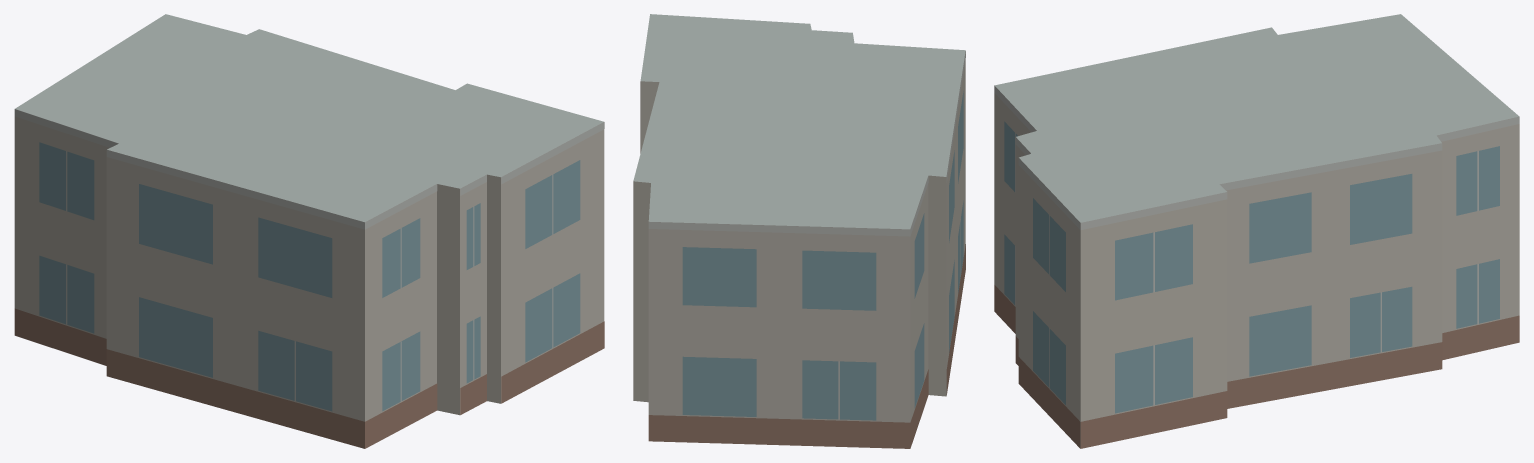
The model's file is survey-upis-32956365.glb.
The picture shows the model from 3 angles, left to right: view 1: azimuth 30°, elevation 25°; view 2: azimuth 150°, elevation 25°; view 3: azimuth 270°, elevation 25°; orthographic projection. The views are drawn at different scales.
Visible parts, largest first — view 1: survey-upis-32956365.tmp; view 2: survey-upis-32956365.tmp; view 3: survey-upis-32956365.tmp.
Boxes of the visible parts, x1=… form: survey-upis-32956365.tmp: x1=14, y1=14, x2=604, y2=448; survey-upis-32956365.tmp: x1=633, y1=14, x2=965, y2=448; survey-upis-32956365.tmp: x1=994, y1=14, x2=1519, y2=448.
Size of the model in its own units: 14.88 by 7.5 by 15.81.
